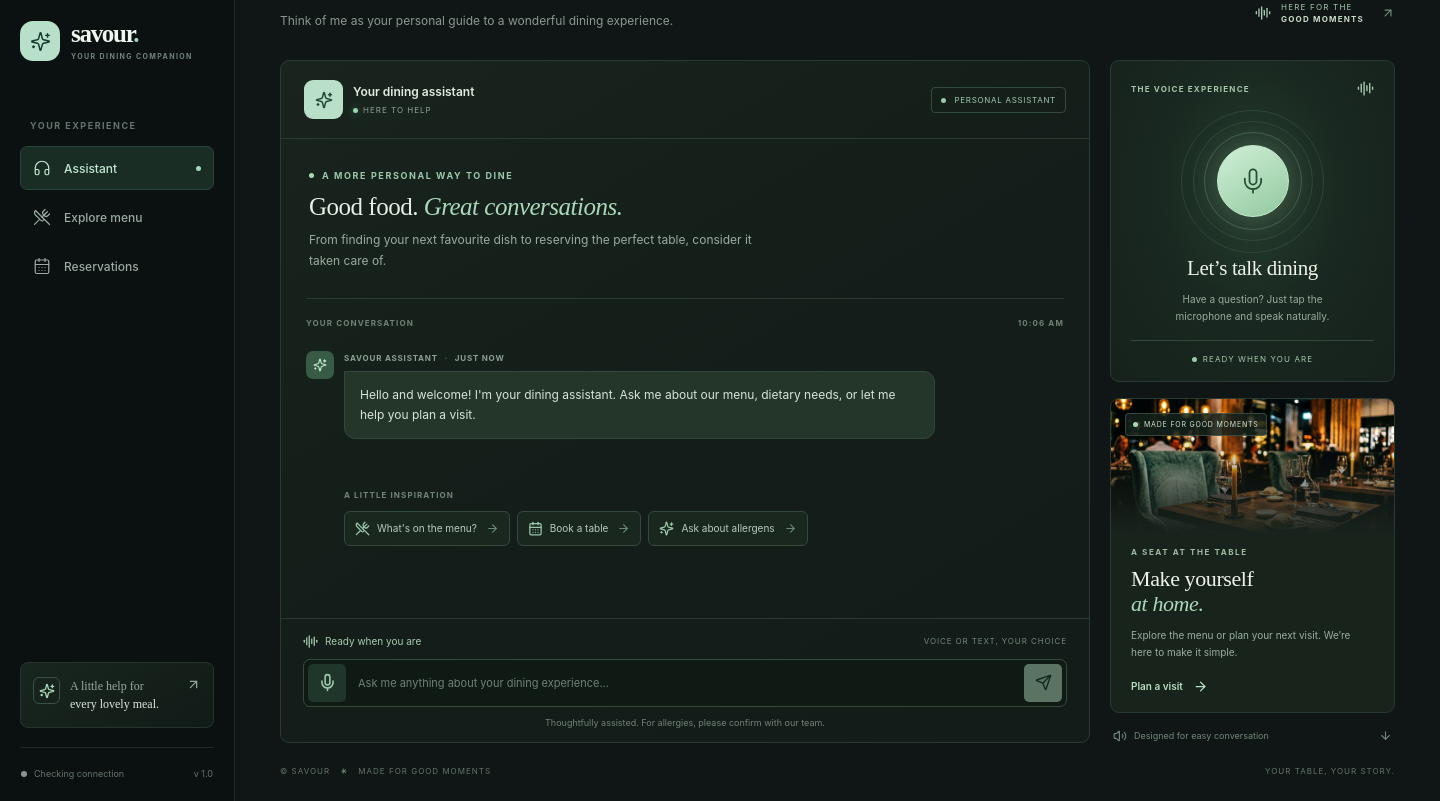
Test: restaurant experience › explains when microphone recording is unavailable
The width and height of the screenshot is (1440, 801).
(page scrolled)
Step 1. Click the button named "Start recording" → (327, 682), box [308, 664, 346, 702]
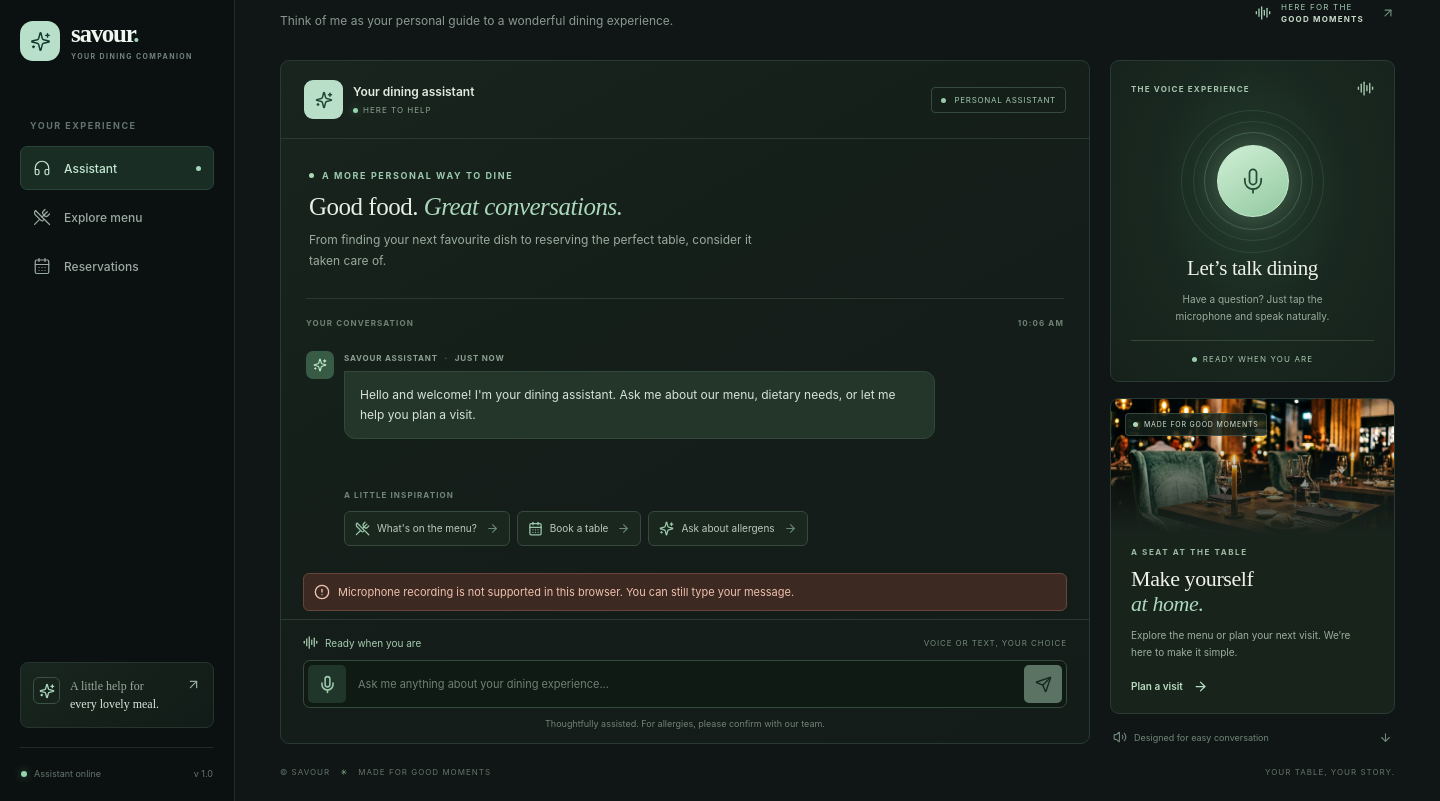
Now the message shows "not supported", box [338, 585, 794, 599]
